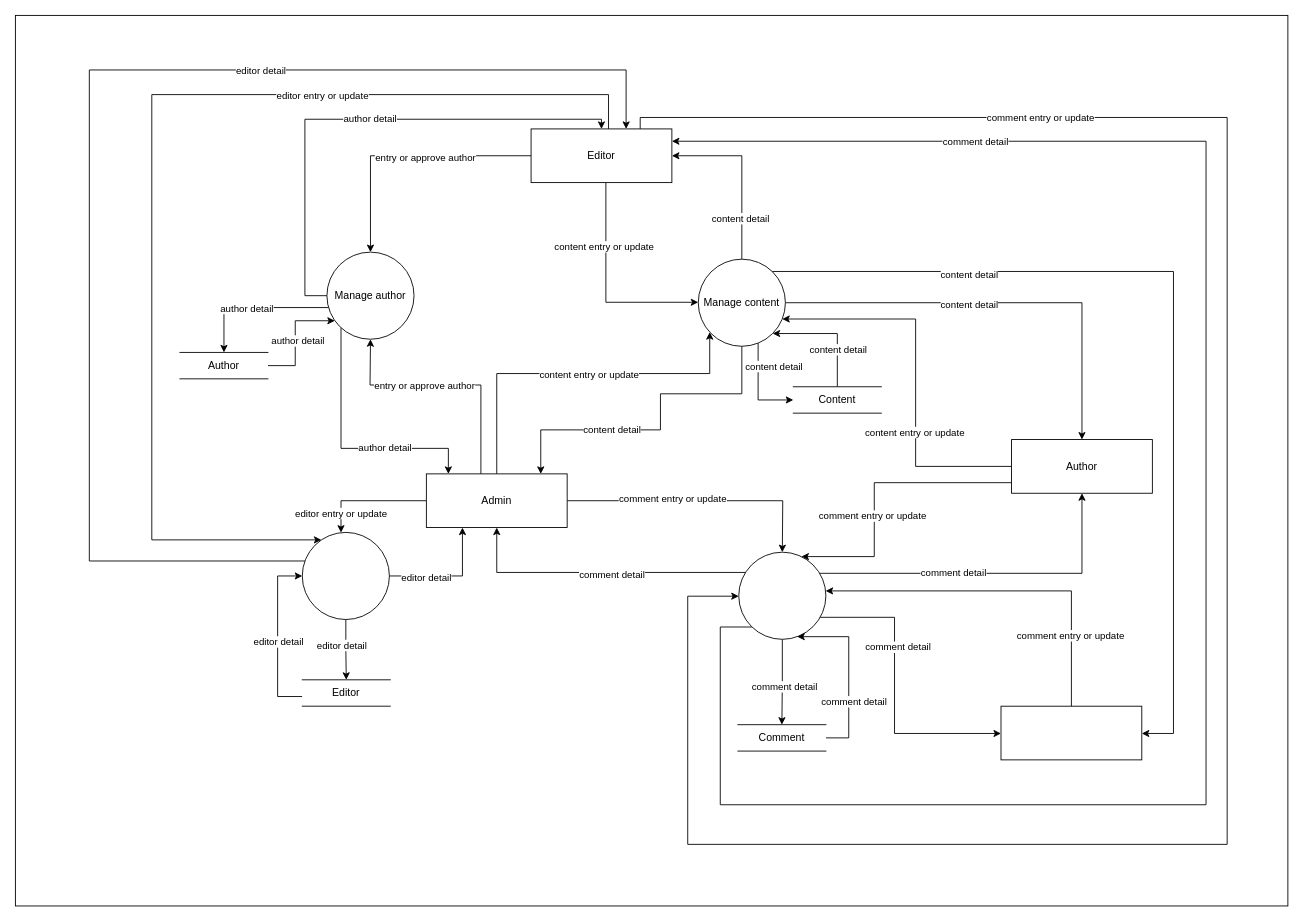
Some shapes in this 1303 by 921 pixel diagram are drawn without their labels. Each missing label, with the centre of its shape:
"Manage comment" belongs at (782,595).
"Manage editor" belongs at (345,576).
"Viewer" belongs at (1071,732).
